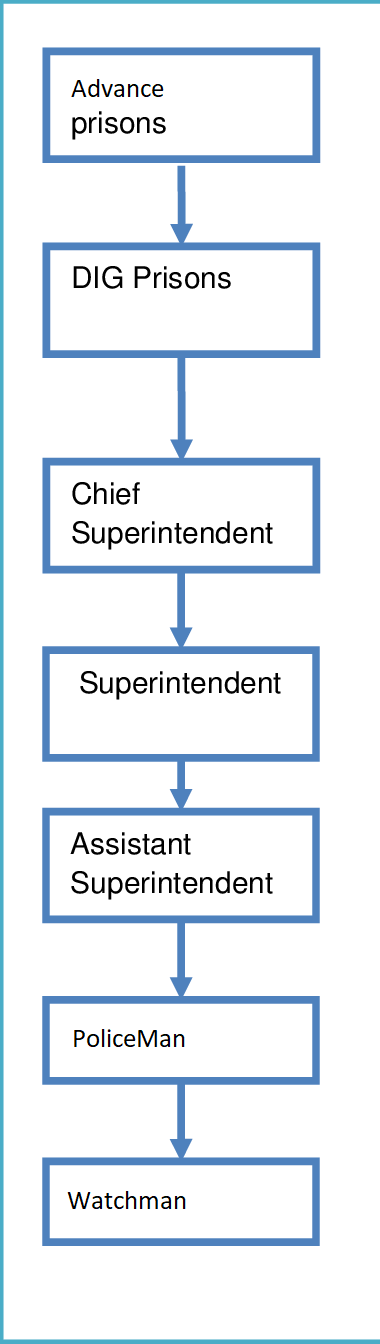arrow: (166, 154, 193, 246), (170, 360, 191, 462), (168, 1083, 195, 1160), (170, 917, 195, 997), (170, 566, 193, 648), (168, 762, 193, 811)
process: (38, 238, 327, 366), (35, 805, 323, 932), (38, 44, 325, 171), (38, 454, 325, 579), (38, 642, 323, 766), (38, 1154, 327, 1252), (40, 991, 323, 1087)
text: (64, 475, 276, 552), (64, 828, 280, 901), (74, 668, 284, 707), (64, 75, 170, 142), (66, 260, 233, 299), (68, 1022, 193, 1054), (64, 1189, 195, 1215)
